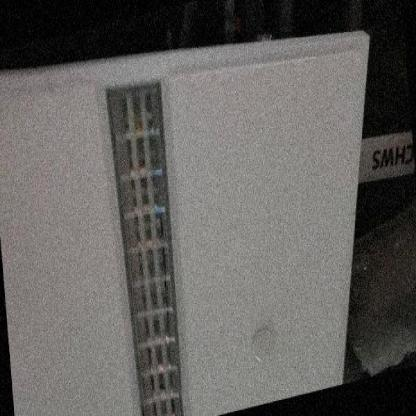light_off: (94, 52, 200, 414)
